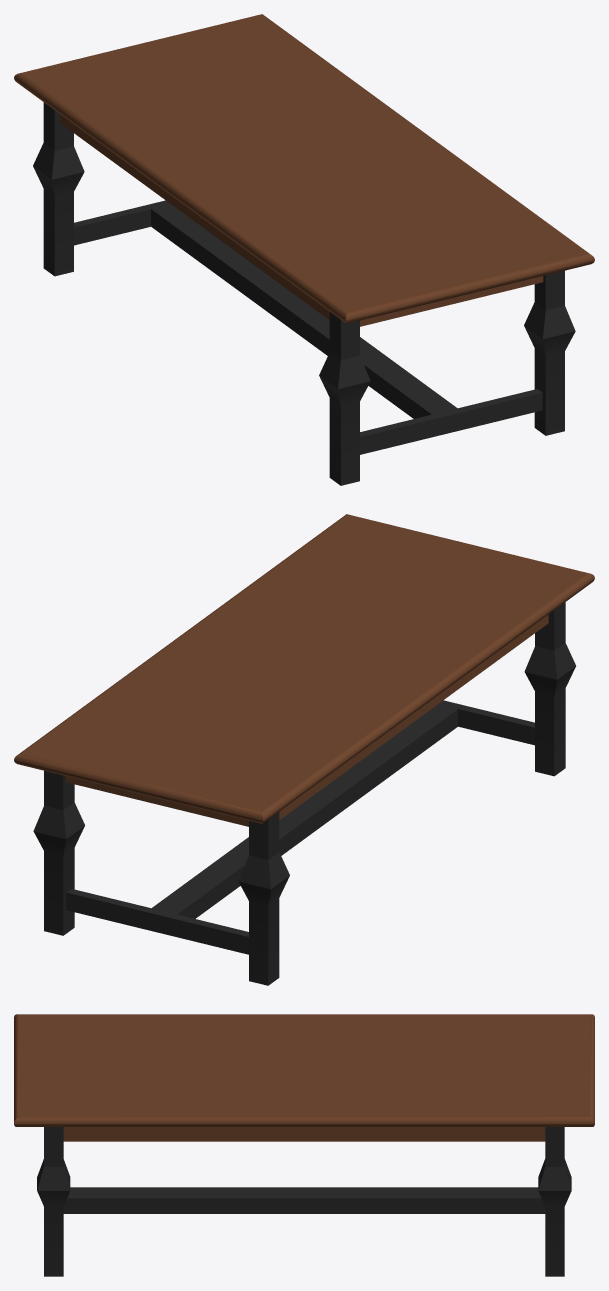
Rendered from GrandeTable_72.fbx.
3 views of the same model, one above another, from view 1: azimuth 30°, elevation 25°; view 2: azimuth 150°, elevation 25°; view 3: azimuth 270°, elevation 25° (orthographic). The views are drawn at different scales.
Parts seen in each view (by area): view 1: pCube105, pCube107, polySurface28, polySurface29, polySurface31; view 2: pCube105, pCube107, polySurface29, polySurface28, polySurface30; view 3: pCube105, pCube107, polySurface31, polySurface30.
Boxes of the visible parts, <box> form: pCube105: <box>14,14,594,326</box>; pCube107: <box>74,200,542,454</box>; polySurface28: <box>319,312,370,485</box>; polySurface29: <box>33,102,84,276</box>; polySurface31: <box>524,270,575,435</box>; pCube105: <box>14,514,594,826</box>; pCube107: <box>66,700,534,954</box>; polySurface29: <box>238,812,289,985</box>; polySurface28: <box>524,602,575,776</box>; polySurface30: <box>33,770,84,935</box>; pCube105: <box>14,1014,594,1141</box>; pCube107: <box>63,1187,545,1213</box>; polySurface31: <box>37,1127,70,1276</box>; polySurface30: <box>538,1127,571,1276</box>.
Size of the model in its own units: 56.13 by 40.09 by 129.
